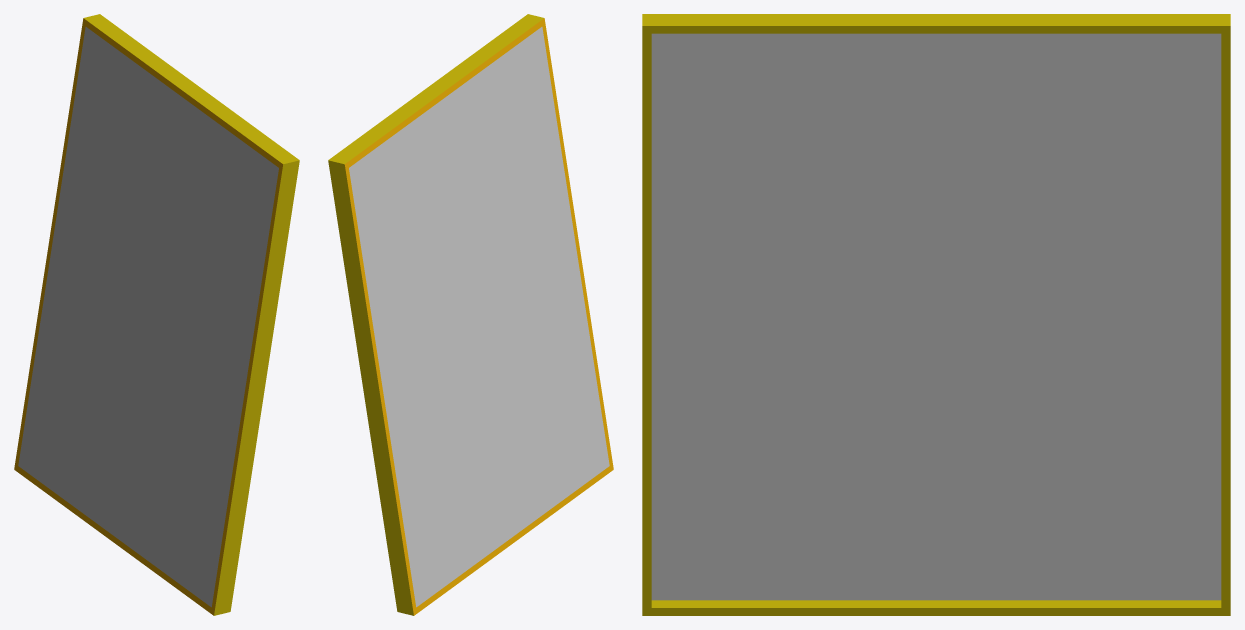
Rendered from window_slanted_5x1x6.dae.
3 views of the same model, side by side, from view 1: azimuth 30°, elevation 25°; view 2: azimuth 150°, elevation 25°; view 3: azimuth 270°, elevation 25° (orthographic). The views are drawn at different scales.
Parts seen in each view (by area): view 1: Cube; view 2: Cube; view 3: Cube.
Part boxes in pixels (x1=…): Cube: x1=14, y1=14, x2=299, y2=615; Cube: x1=328, y1=14, x2=613, y2=615; Cube: x1=642, y1=14, x2=1230, y2=615.
Size of the model in its own units: 0.31 by 1.25 by 1.5.
